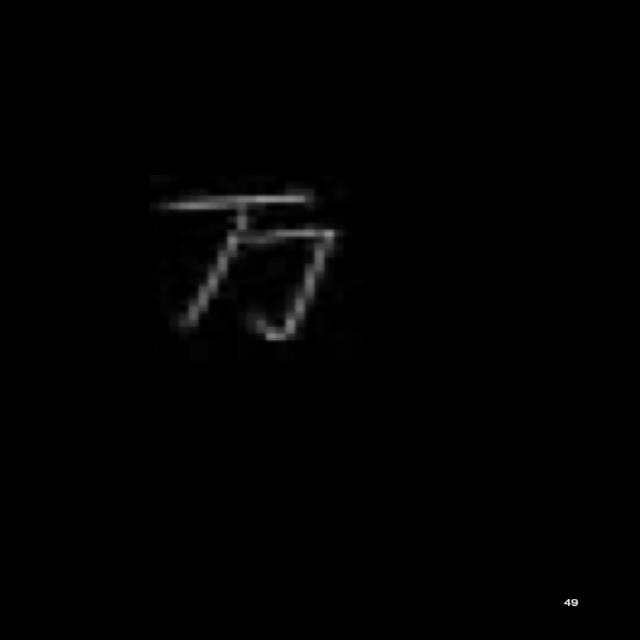10000 -a ten thousand-: (140, 179, 363, 353)
